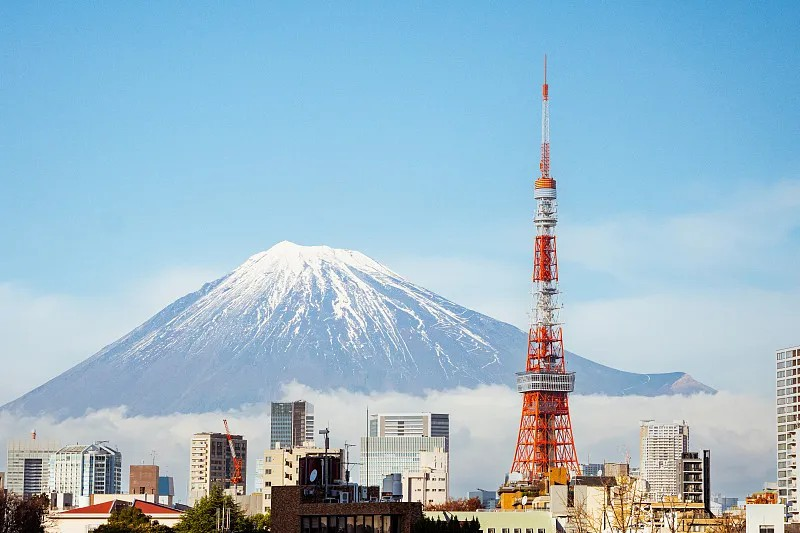Tokyo: (509, 53, 584, 484)
